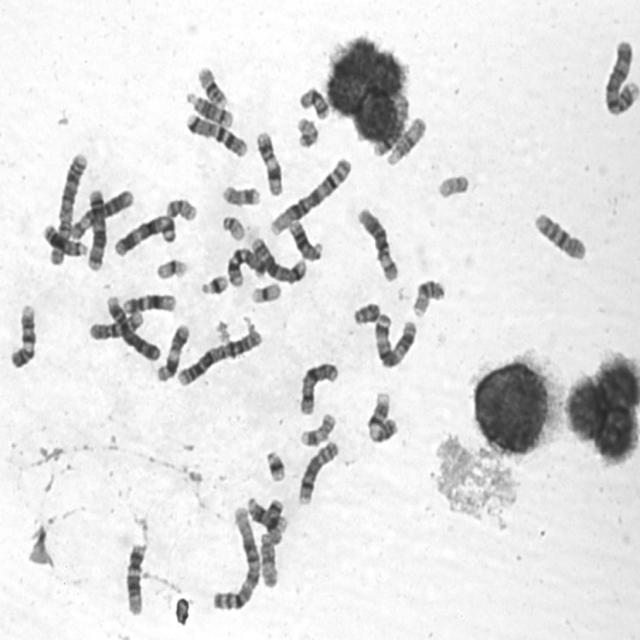A1: (267, 155, 353, 238), (209, 503, 263, 613)
A2: (175, 327, 265, 388), (48, 150, 89, 267)
A3: (111, 211, 178, 258), (372, 310, 418, 370)
B4: (103, 292, 161, 363), (602, 36, 640, 117)
B5: (248, 234, 308, 286), (84, 187, 108, 272)
C10: (532, 208, 588, 263), (87, 308, 146, 342)
C11: (154, 321, 191, 384), (253, 128, 284, 198)
C12: (122, 540, 148, 616), (120, 290, 178, 316)
C6: (68, 186, 135, 240), (355, 204, 400, 284)
C7: (184, 110, 249, 159), (225, 244, 267, 289)
C8: (295, 437, 341, 507), (372, 94, 409, 160)
C9: (8, 300, 38, 370), (364, 388, 400, 445)
D13: (40, 220, 89, 258), (286, 217, 324, 263)
D14: (183, 89, 234, 129), (244, 494, 288, 535)
D15: (384, 113, 428, 168), (257, 529, 280, 589)
E16: (194, 63, 228, 109), (410, 276, 447, 318)
E17: (297, 409, 338, 448), (219, 182, 262, 208)
E18: (297, 84, 331, 121), (264, 498, 285, 548)
F19: (153, 256, 190, 282), (248, 280, 283, 306)
F20: (163, 194, 199, 223), (294, 114, 320, 149)
G21: (198, 270, 229, 298), (263, 448, 287, 484)
G22: (435, 172, 471, 200), (219, 212, 247, 242)
X: (296, 358, 341, 418)
Y: (351, 299, 382, 326)
